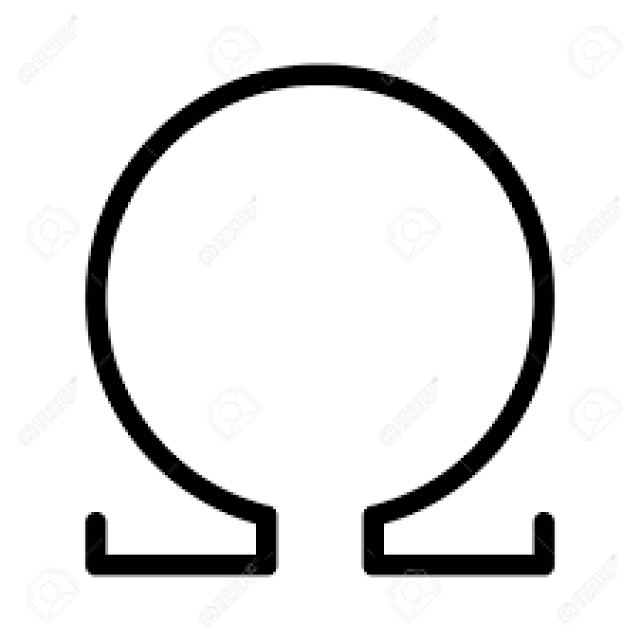ohms: (57, 50, 580, 626)
